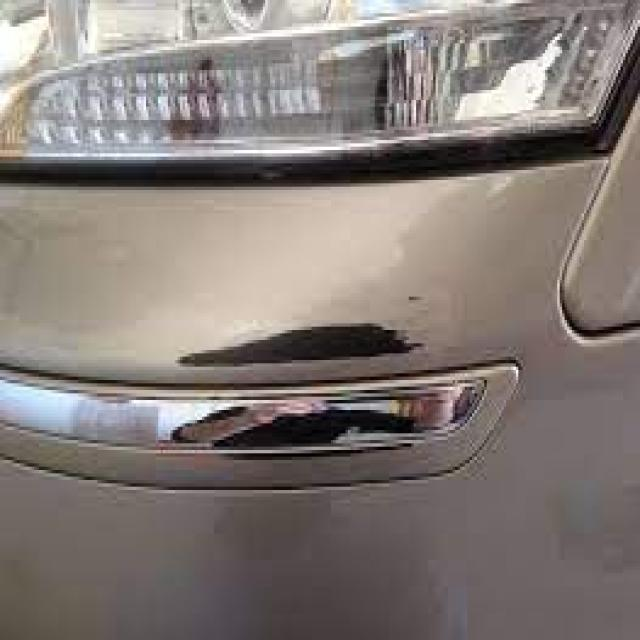paint-chip: (143, 297, 438, 386)
